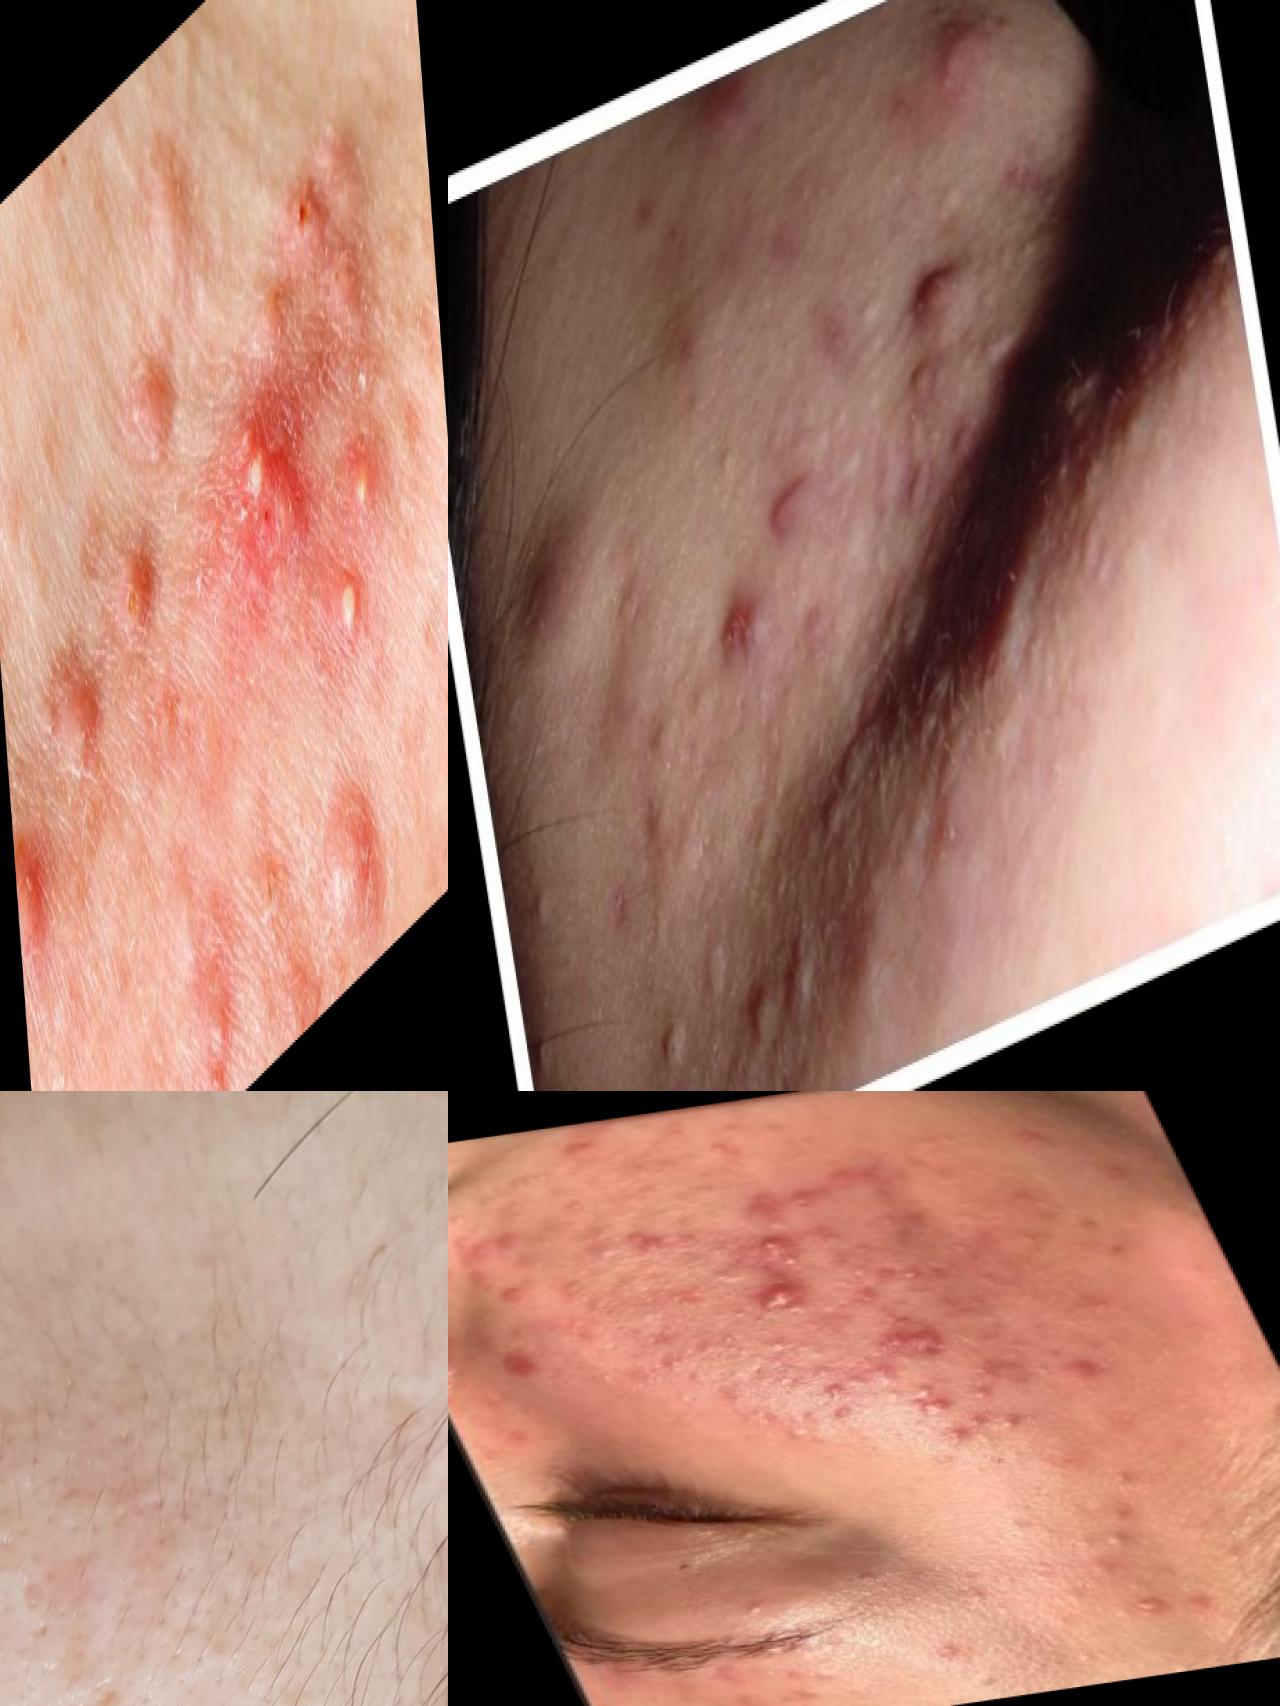blackhead: (651, 984, 707, 1084), (528, 989, 582, 1084), (742, 960, 781, 1051)
cystic: (313, 747, 395, 995), (891, 222, 990, 378), (511, 493, 593, 678), (48, 621, 106, 829), (120, 328, 179, 530), (920, 1, 1019, 112), (13, 790, 55, 1010)
papular: (721, 1188, 817, 1242), (606, 1223, 683, 1266), (485, 1343, 563, 1385), (449, 1226, 508, 1265), (957, 1358, 1025, 1391), (1055, 1351, 1125, 1383), (883, 1260, 945, 1291), (485, 1225, 546, 1256), (485, 1281, 543, 1309), (553, 1135, 606, 1163), (778, 1184, 831, 1213), (844, 1285, 890, 1309)
purulent: (1109, 1586, 1198, 1631), (333, 549, 367, 659), (886, 1377, 960, 1424), (347, 432, 376, 534), (730, 1227, 801, 1265), (764, 1248, 822, 1274), (808, 1377, 861, 1404), (817, 1399, 869, 1426), (934, 1425, 982, 1451), (955, 1409, 994, 1432), (963, 1381, 1002, 1404), (990, 1412, 1030, 1433)
sebo-crystan-conglo: (221, 363, 320, 653), (699, 561, 799, 696), (871, 1316, 983, 1366), (731, 1277, 834, 1320)
whitehead: (1054, 1520, 1166, 1582), (567, 1213, 645, 1277), (764, 1658, 855, 1706), (702, 1585, 783, 1631), (920, 1632, 992, 1676), (748, 1328, 812, 1362), (848, 1354, 912, 1387), (679, 1334, 734, 1363), (497, 1167, 559, 1192), (696, 1139, 744, 1164), (713, 1327, 754, 1355), (1094, 1159, 1140, 1184), (465, 1188, 510, 1213), (557, 1196, 594, 1217), (687, 1179, 723, 1199)
